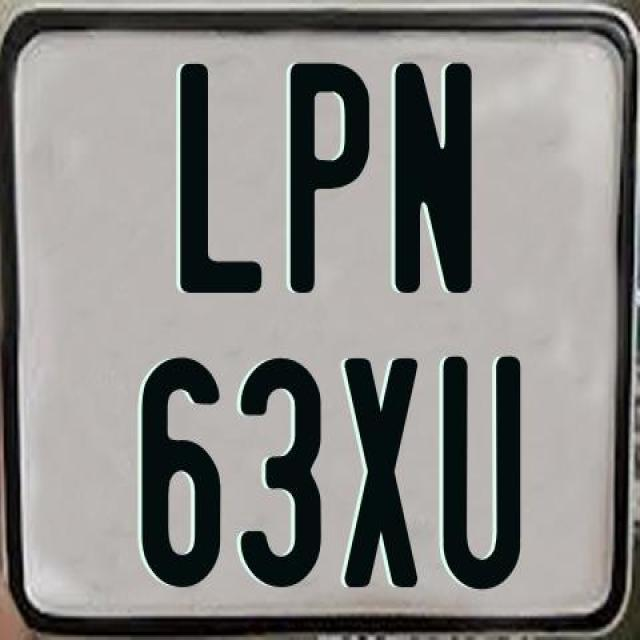3: (237, 357, 324, 596)
6: (138, 354, 218, 586)
L: (178, 62, 262, 298)
N: (394, 61, 478, 296)
P: (288, 58, 373, 298)
U: (441, 352, 520, 587)
X: (346, 358, 424, 589)
